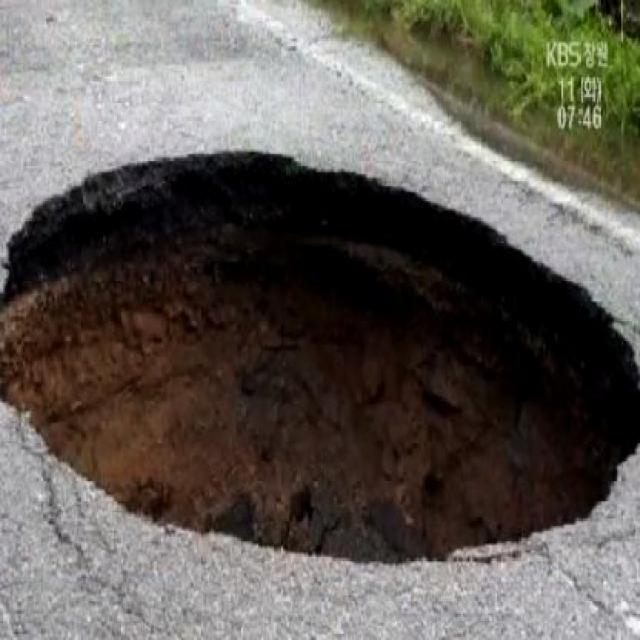Pothole: (0, 135, 638, 587)
